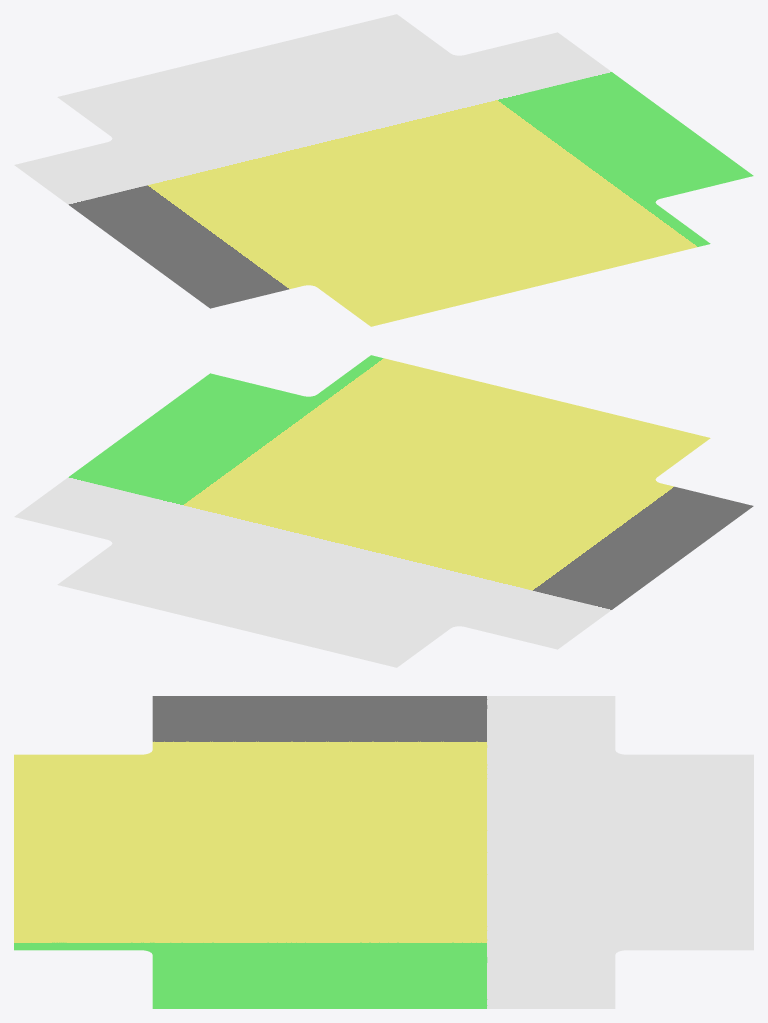
Rendered from RoadPart_04.fbx.
The picture shows the model from 3 angles, top to bottom: view 1: azimuth 30°, elevation 25°; view 2: azimuth 150°, elevation 25°; view 3: azimuth 270°, elevation 25°; orthographic projection. The views are drawn at different scales.
Visible parts, largest first — view 1: Plane.003; view 2: Plane.003; view 3: Plane.003.
Part boxes in pixels (x1,y1,x2,y2): Plane.003: (14,14,753,326); Plane.003: (14,355,753,667); Plane.003: (14,696,753,1008).
Size of the model in its own units: 640 by 0.000104 by 640.
